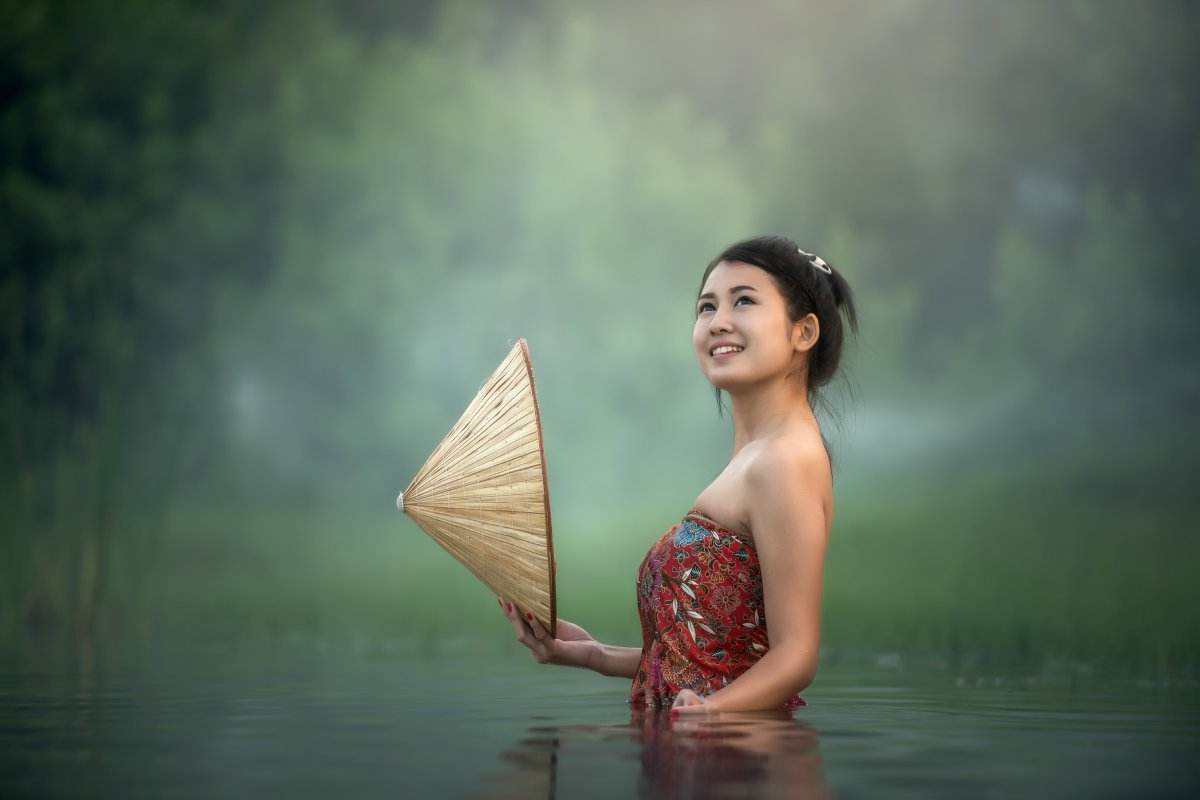person: (587, 259, 859, 726)
